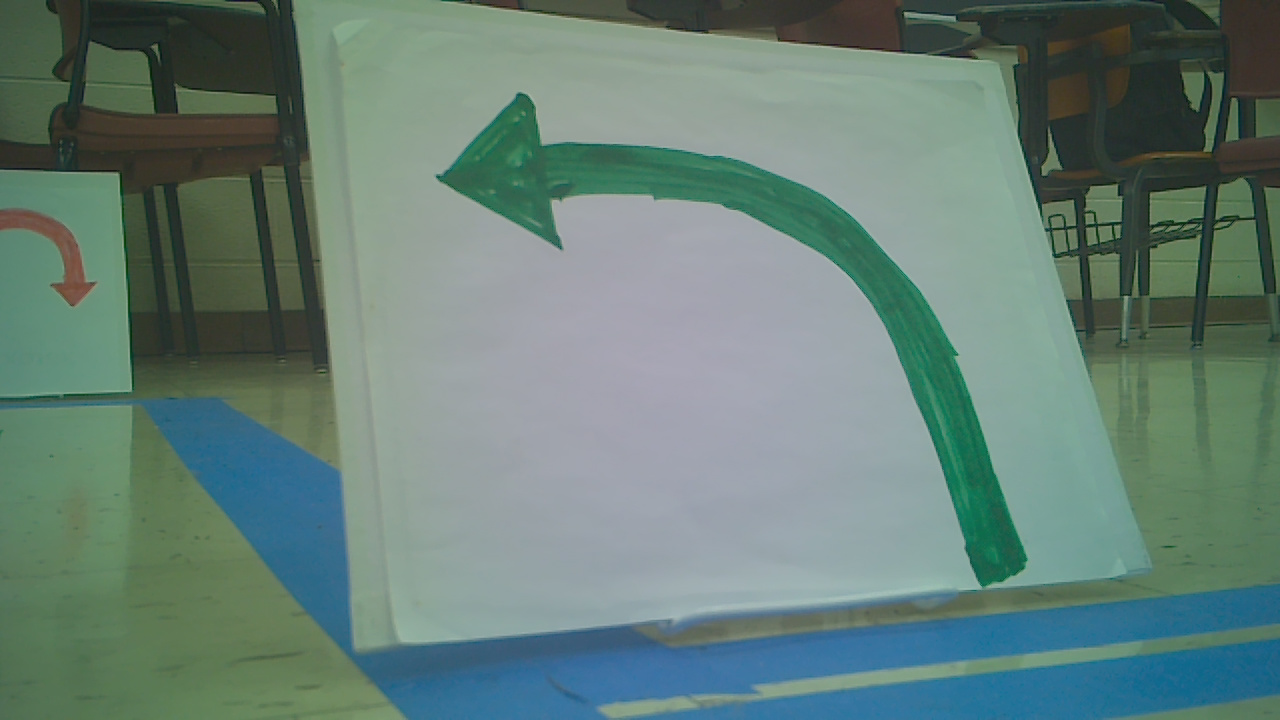left: (428, 90, 1034, 582)
